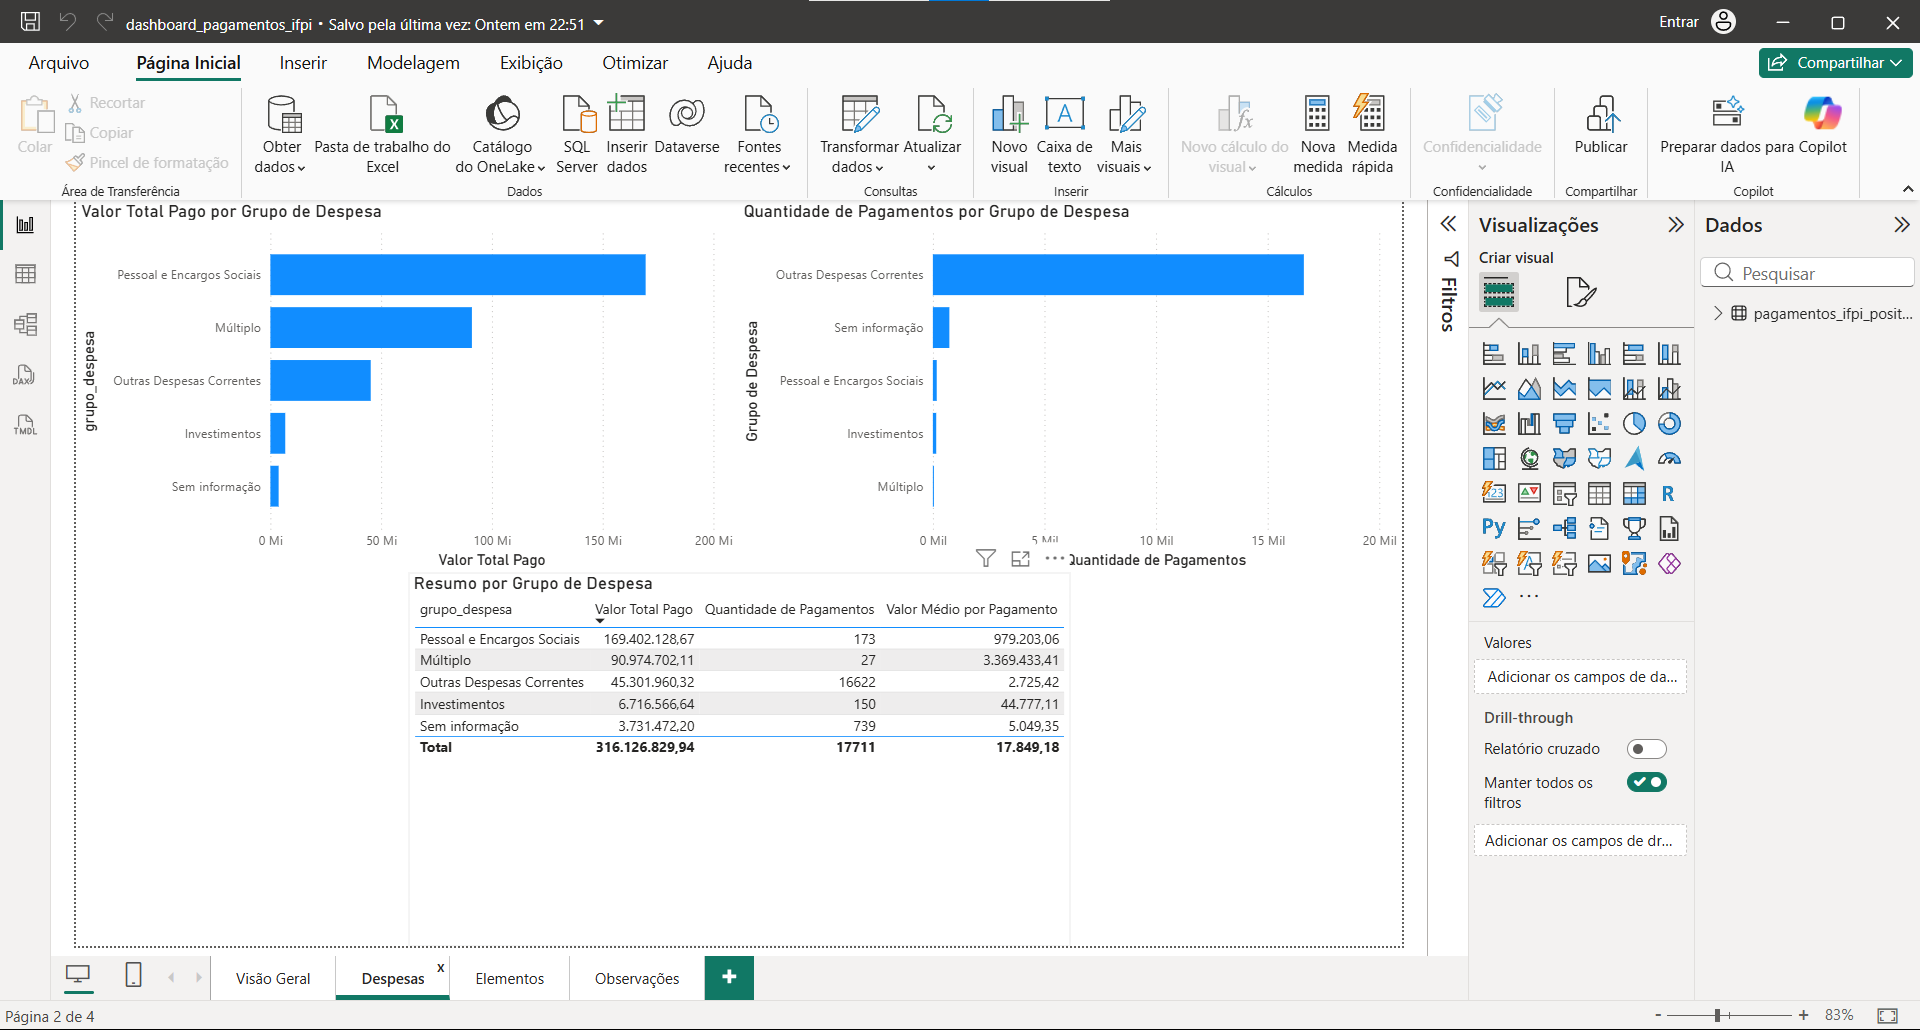

The dashboard page shown, as its layout file describes it:
{"tool":"powerbi","page":{"name":"Despesas","canvas":[1280,720],"ordinal":1},"visuals":[{"type":"clusteredBarChart","title":"Valor Total Pago por Grupo de Despesa","fields":{"Category":["pagamentos_ifpi_positivos.grupo_despesa"],"Y":["pagamentos_ifpi_positivos.Valor Total Pago"]},"box":[0,0,639.4,360.7],"z":0},{"type":"clusteredBarChart","title":"Quantidade de Pagamentos por Grupo de Despesa","fields":{"Category":["pagamentos_ifpi_positivos.grupo_despesa"],"Y":["pagamentos_ifpi_positivos.Quantidade de Pagamentos"]},"box":[639.4,0,640.6,360.7],"z":1000},{"type":"tableEx","title":"Resumo por Grupo de Despesa","fields":{"Values":["pagamentos_ifpi_positivos.grupo_despesa","pagamentos_ifpi_positivos.Valor Total Pago","pagamentos_ifpi_positivos.Quantidade de Pagamentos","pagamentos_ifpi_positivos.Valor Médio por Pagamento"]},"box":[320.9,359.5,639.4,360.7],"z":2000}]}

Visuals, with their boxes on the page's 1280x720 design canvas (x1, y1, x2, y2). These are canvas units, not pixel positions in the 1920x1030 screenshot, which may show the page scaled, cropped or inside an application window:
"Valor Total Pago por Grupo de Despesa" clusteredBarChart: [left=0, top=0, right=639, bottom=361]
"Quantidade de Pagamentos por Grupo de Despesa" clusteredBarChart: [left=639, top=0, right=1280, bottom=361]
"Resumo por Grupo de Despesa" tableEx: [left=321, top=360, right=960, bottom=720]
